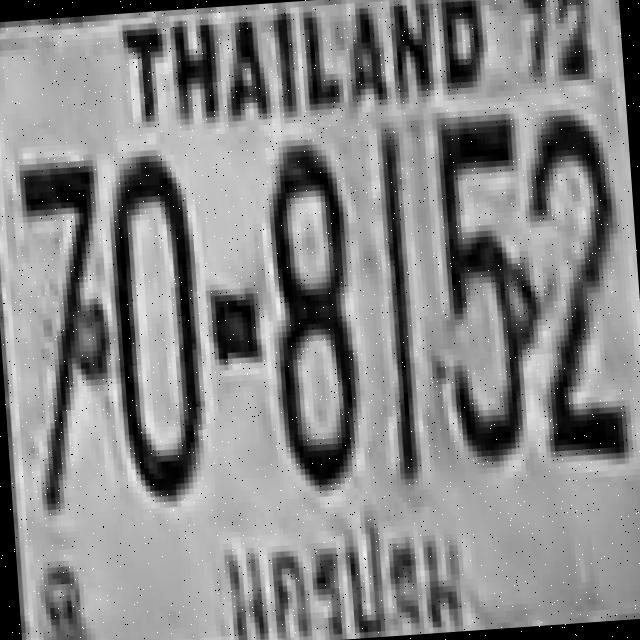2: (518, 110, 623, 380), (529, 202, 628, 454)
7: (14, 154, 110, 366)
8: (260, 140, 365, 478), (262, 174, 366, 484)
NakhonPathom: (213, 498, 472, 640)
